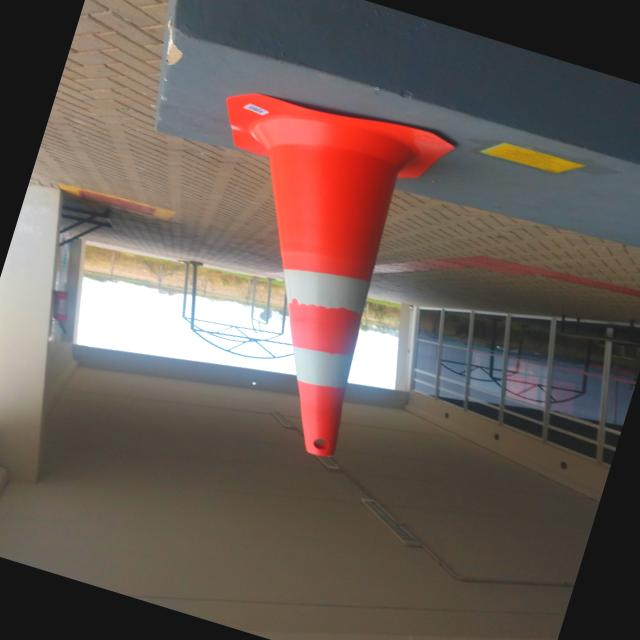cone: (114, 58, 496, 498)
